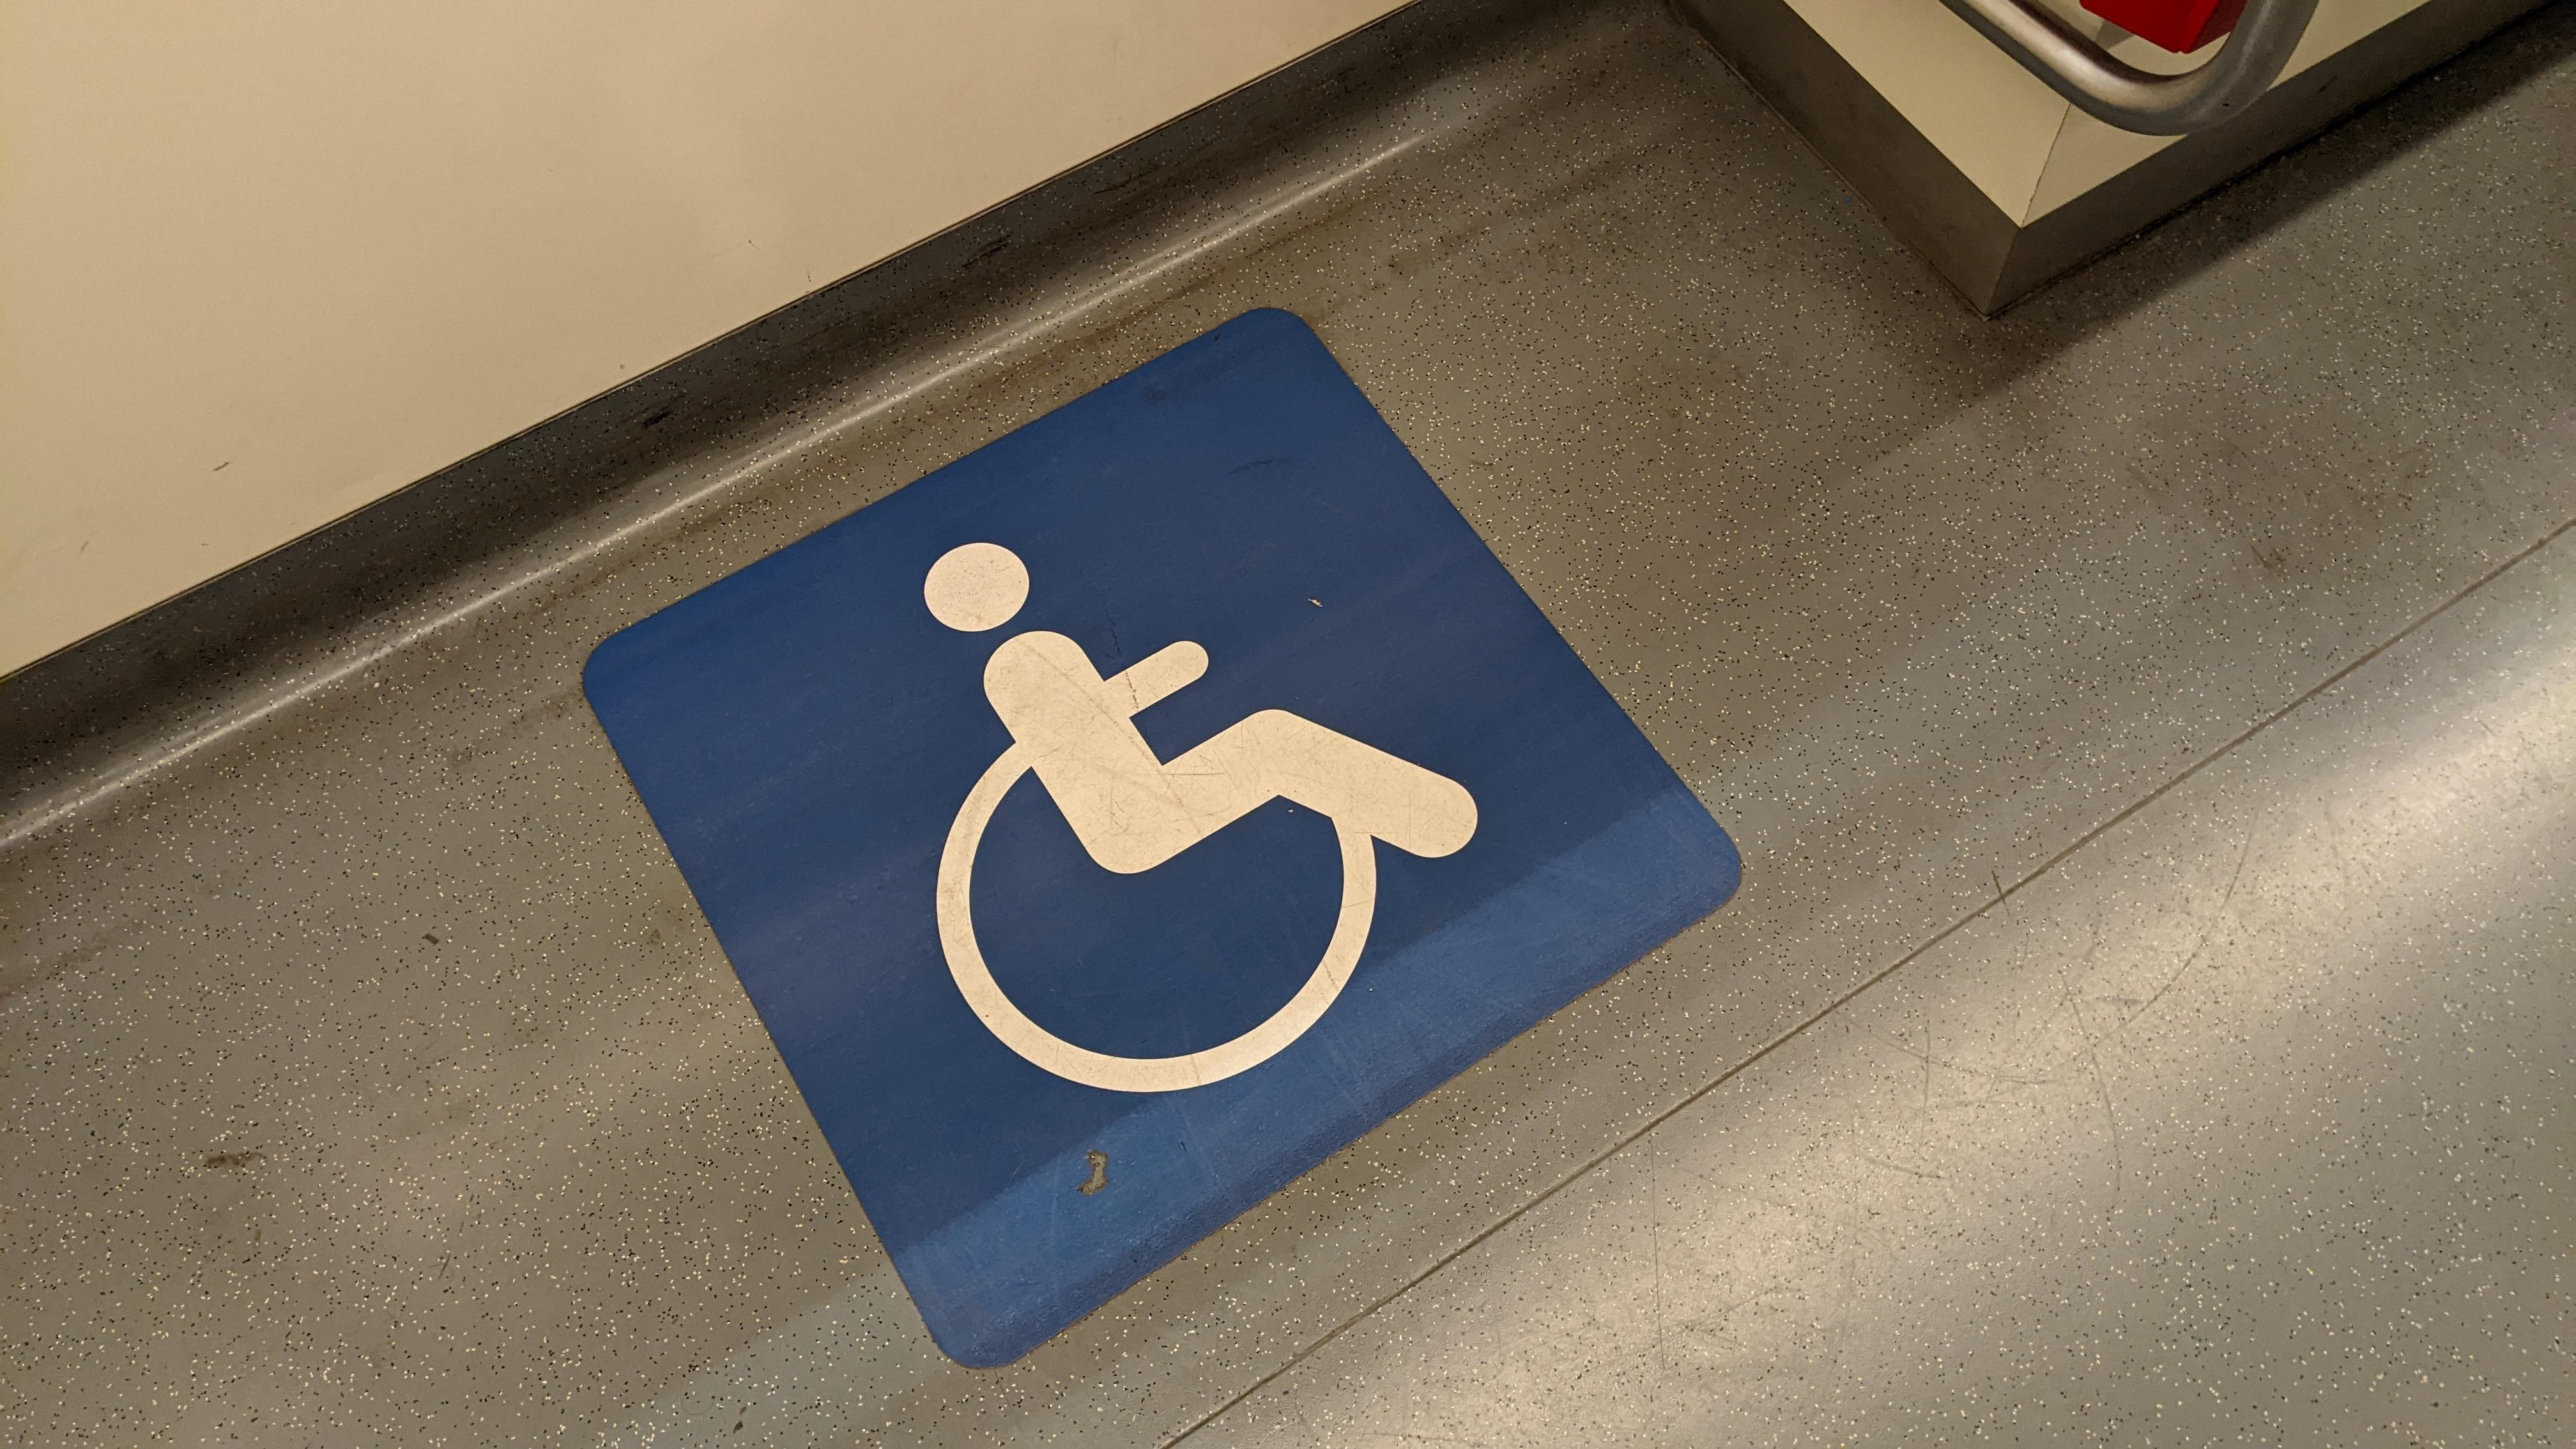handicapped symbol: (913, 533, 1486, 1100)
